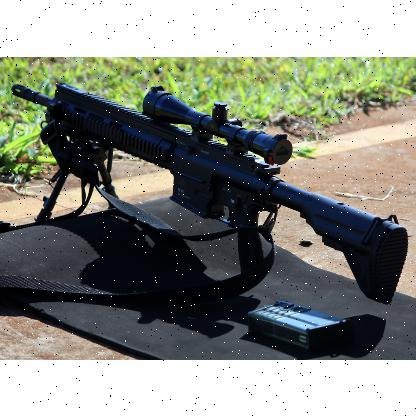gun: (0, 81, 408, 301)
